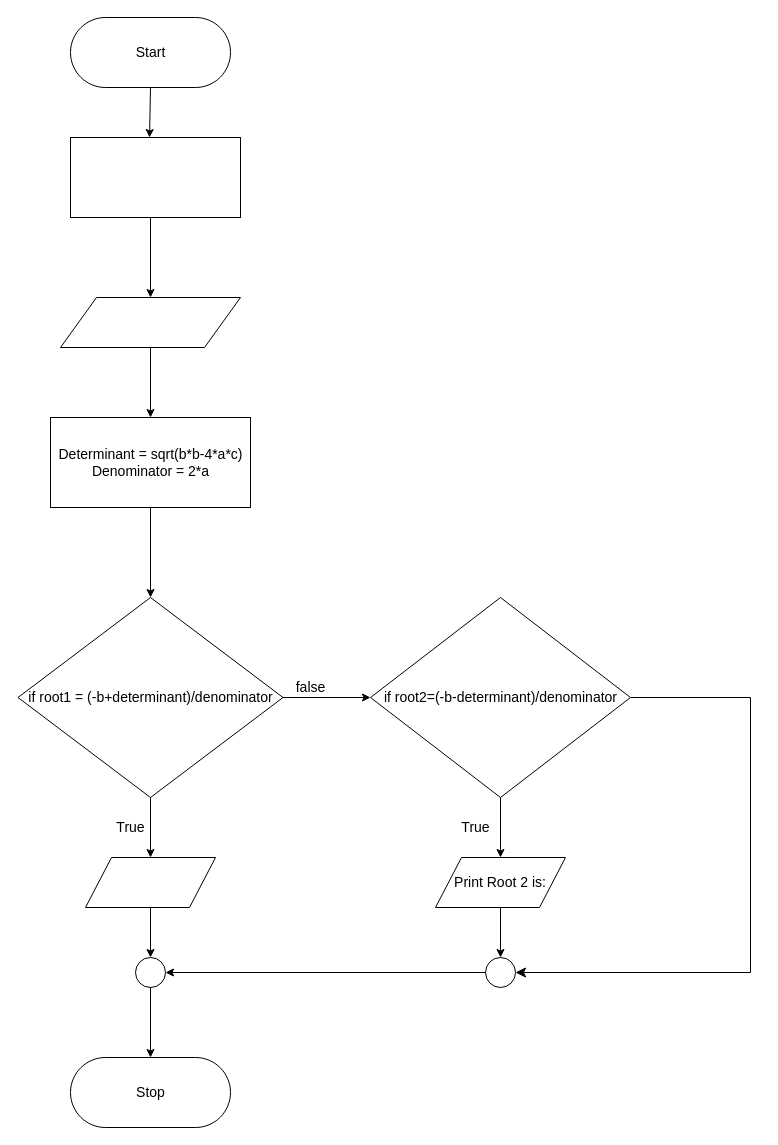
The diagram is 778 pixels wide and 1145 high, and some of its shapes have lost their labels. The shapes that lost their labels are listed below. From the top down, each one's centre as x and y in pixels, then its label:
the point at 155,177: Declare a, b, c root1, root2 Determinan t, denominator
the point at 150,322: Input a, b, c
the point at 150,882: Print Root 1 is:
